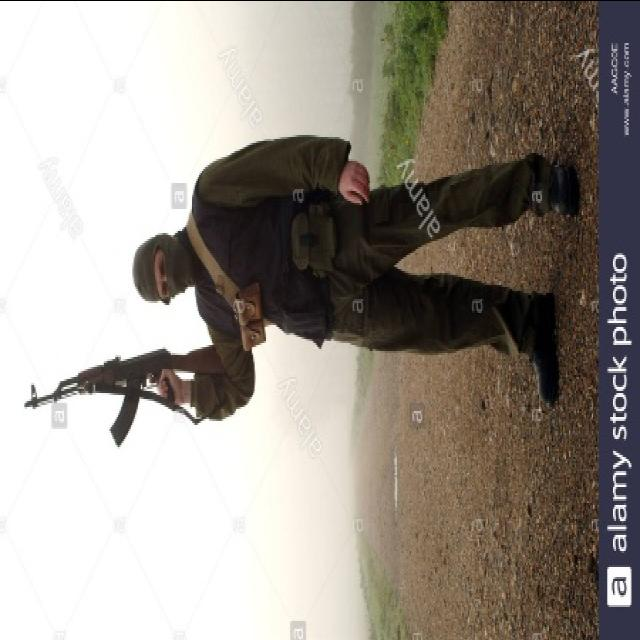rifle: (18, 335, 224, 445)
